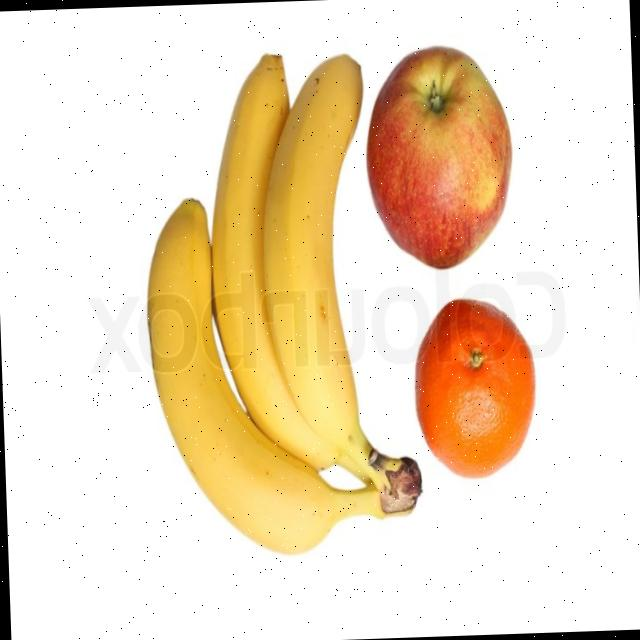Apel: (362, 42, 516, 270)
Jeruk: (412, 294, 540, 480)
Pisang: (138, 46, 425, 560), (203, 49, 334, 478)
